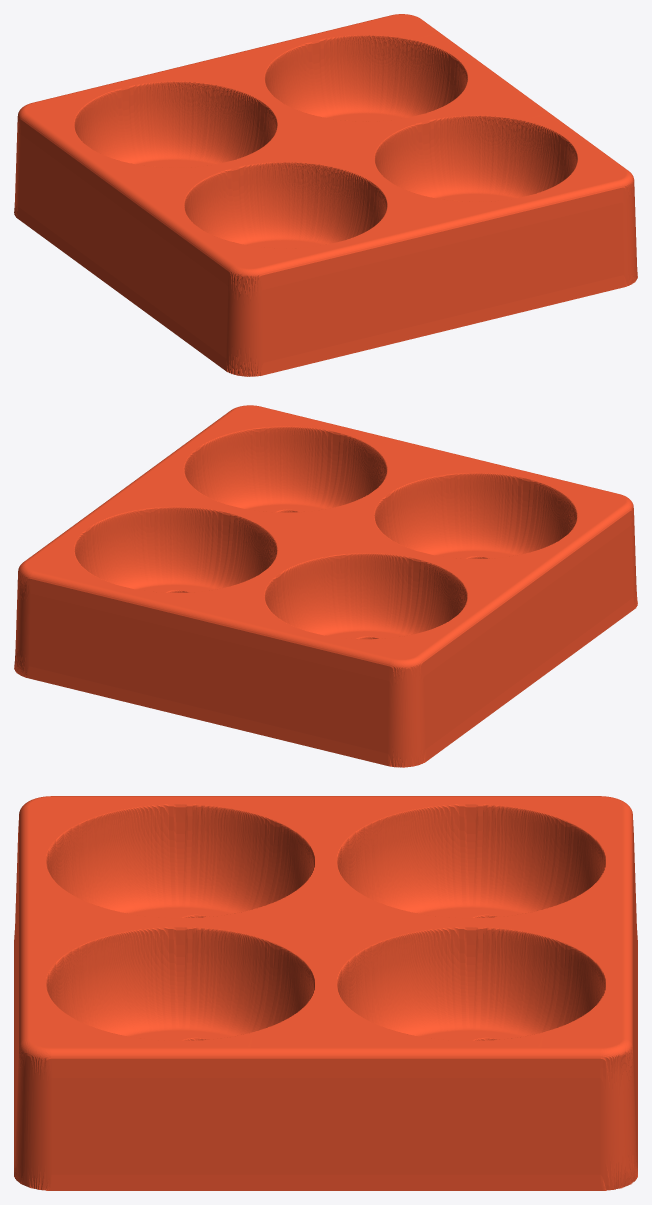
Rendered from mold.glb.
3 views of the same model, one above another, from view 1: azimuth 30°, elevation 25°; view 2: azimuth 150°, elevation 25°; view 3: azimuth 270°, elevation 25° (orthographic). The views are drawn at different scales.
Parts seen in each view (by area): view 1: geometry_0; view 2: geometry_0; view 3: geometry_0.
Part boxes in pixels (box(x1,y1,x2,y2)): geometry_0: box(14, 14, 637, 376); geometry_0: box(14, 405, 637, 767); geometry_0: box(14, 796, 637, 1190).
Bounding box in the file's own units: 0.1493 × 0.036 × 0.1493.
